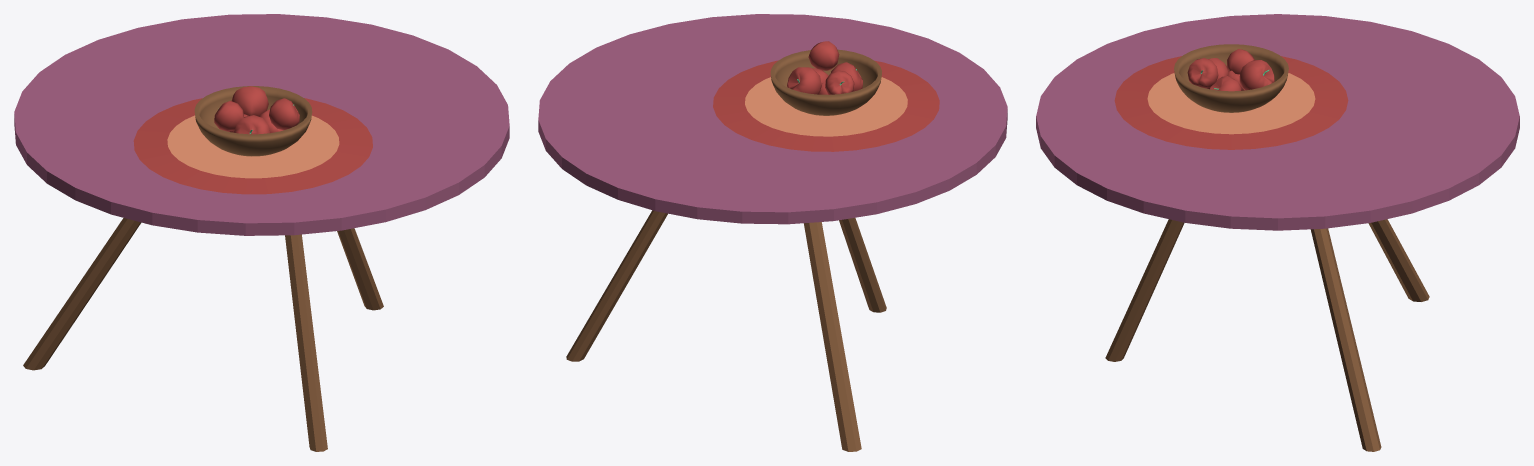
The model's file is Cocina Mesa.fbx.
3 renders of one model, left to right at view 1: azimuth 30°, elevation 25°; view 2: azimuth 150°, elevation 25°; view 3: azimuth 270°, elevation 25°, orthographic. The views are drawn at different scales.
Parts seen in each view (by area): view 1: Mesa cocina; view 2: Mesa cocina; view 3: Mesa cocina.
Part boxes in pixels (x1=…): Mesa cocina: x1=14, y1=14, x2=509, y2=451; Mesa cocina: x1=538, y1=14, x2=1007, y2=451; Mesa cocina: x1=1036, y1=14, x2=1519, y2=451.
Bounding box in the file's own units: 149 × 104 × 149.
